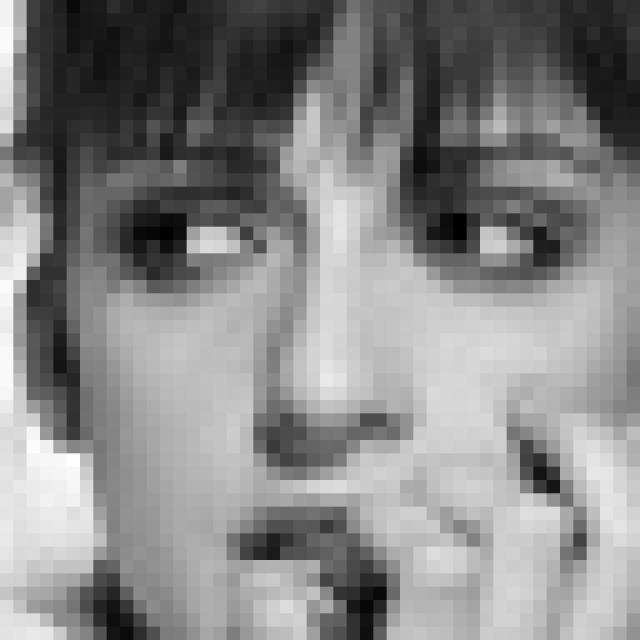fear: (105, 123, 607, 589)
